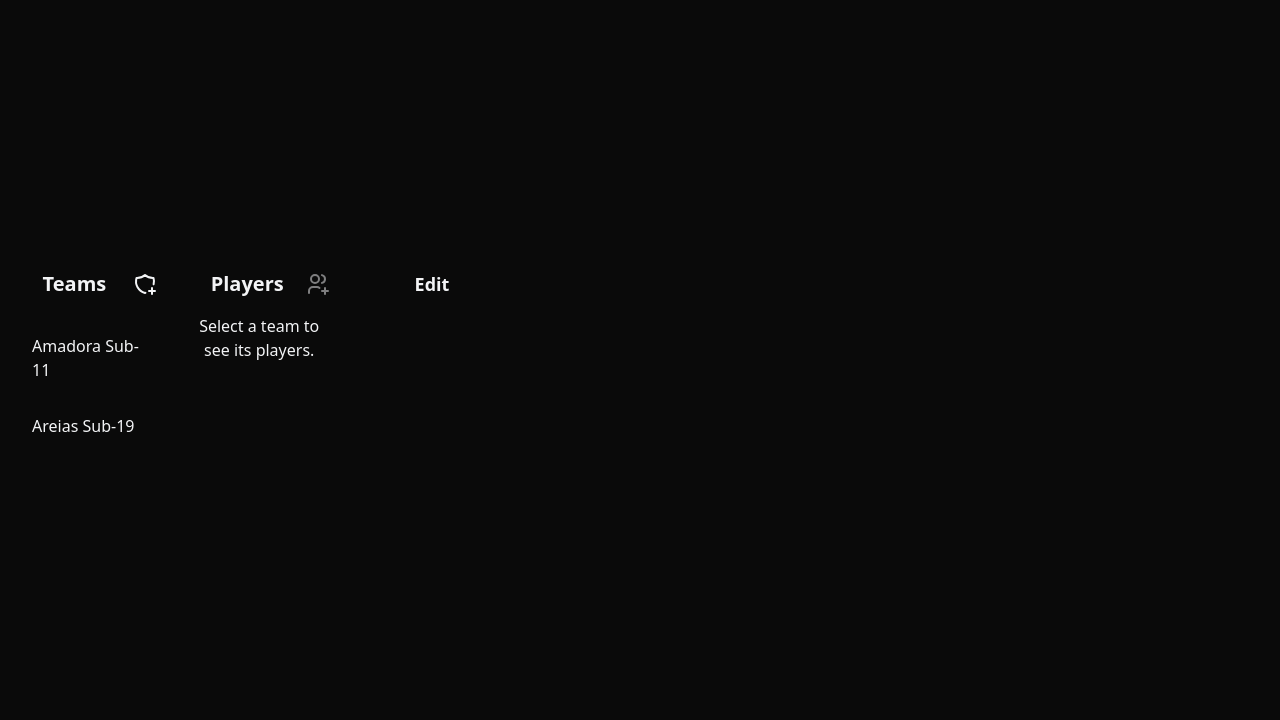
editing the selected team's details updates the list and the edit panel without losing the selection
The image size is (1280, 720).
Click the button "Amadora Sub-11" at (86, 358), box x1=16 y1=322 x2=157 y2=394
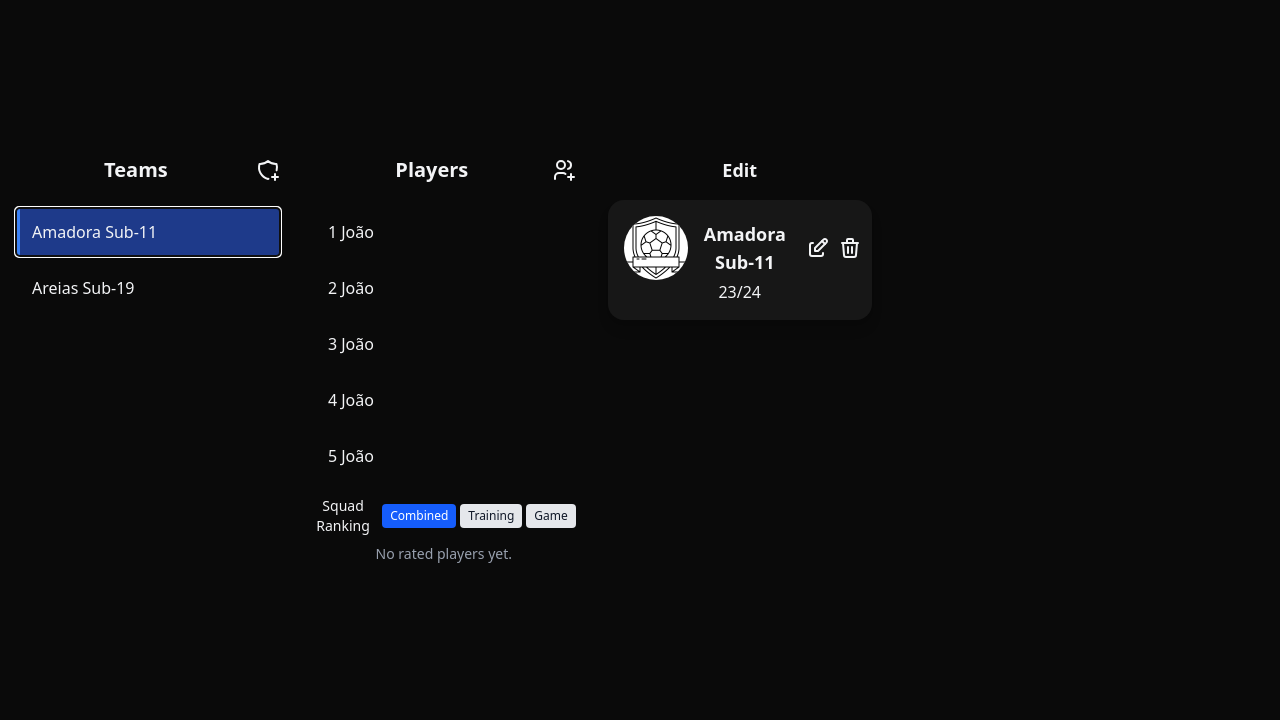
Click the icon with class "tabler-icon-edit" at (818, 248), box x1=806 y1=236 x2=830 y2=260
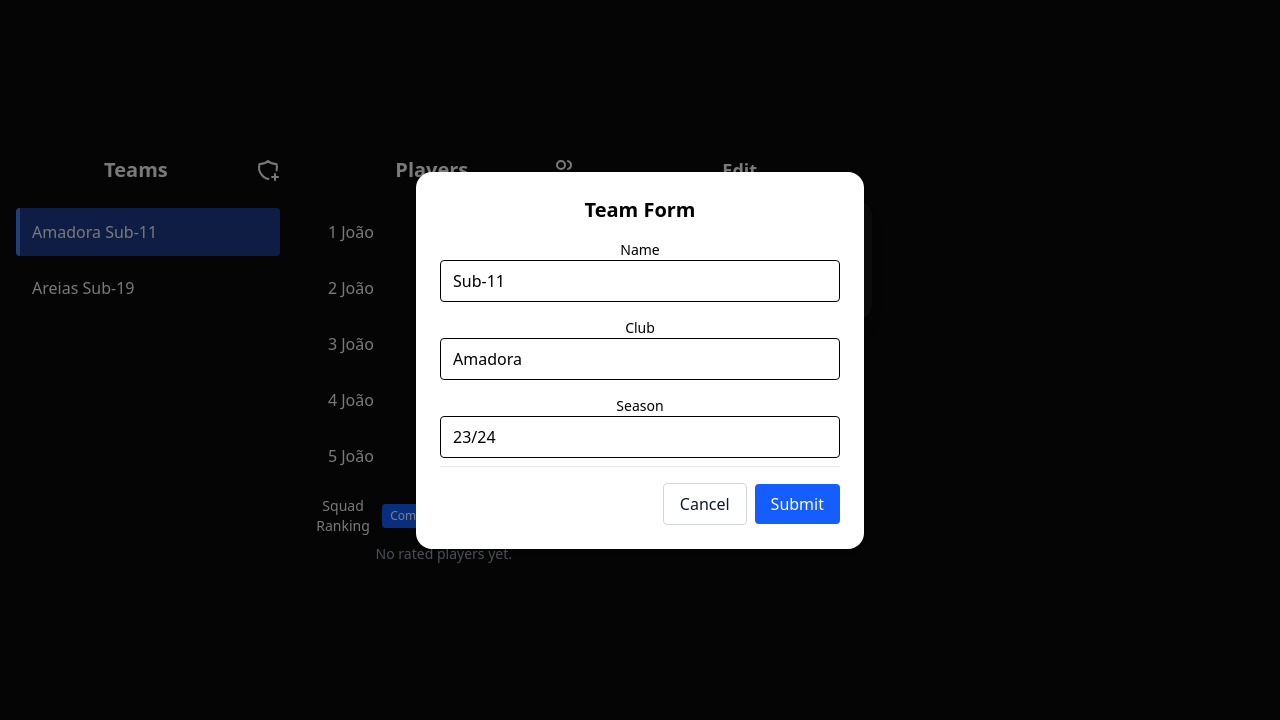
Replace the text in the field labelled "Name" with "Sub-11B" at (640, 280), box x1=440 y1=260 x2=840 y2=302
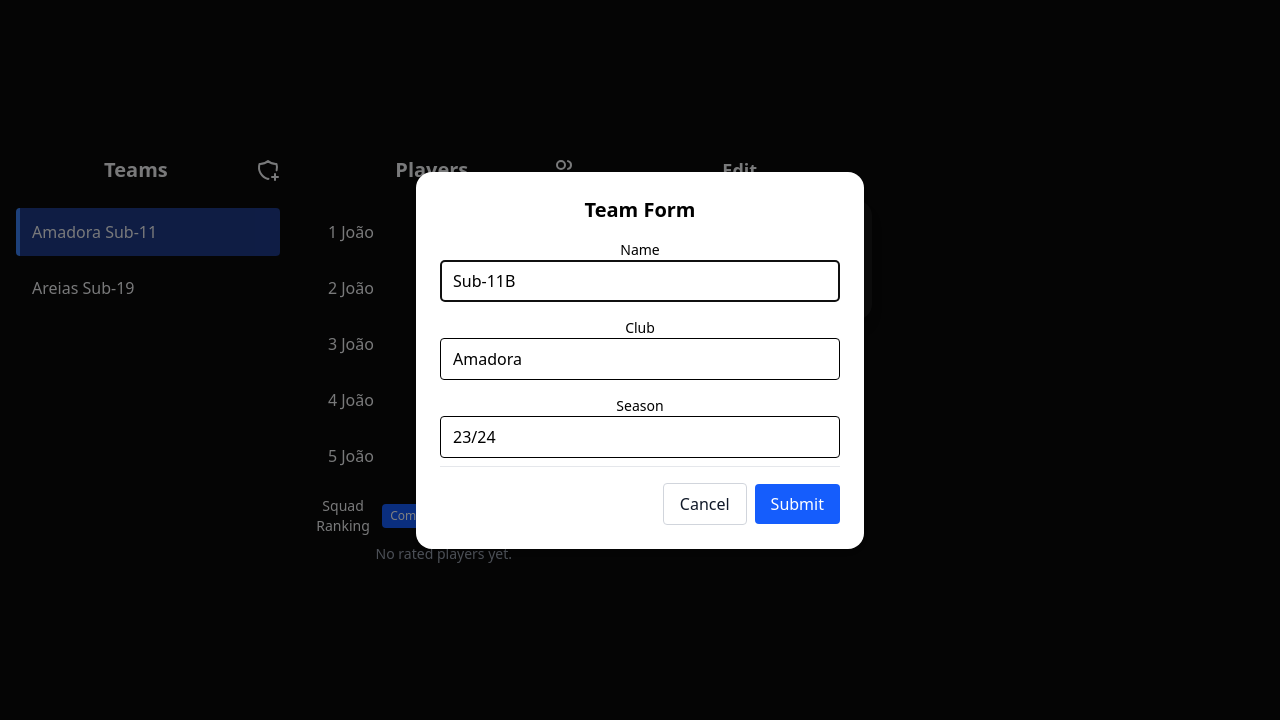
Click the button "Submit" at (797, 504), box x1=755 y1=484 x2=840 y2=524
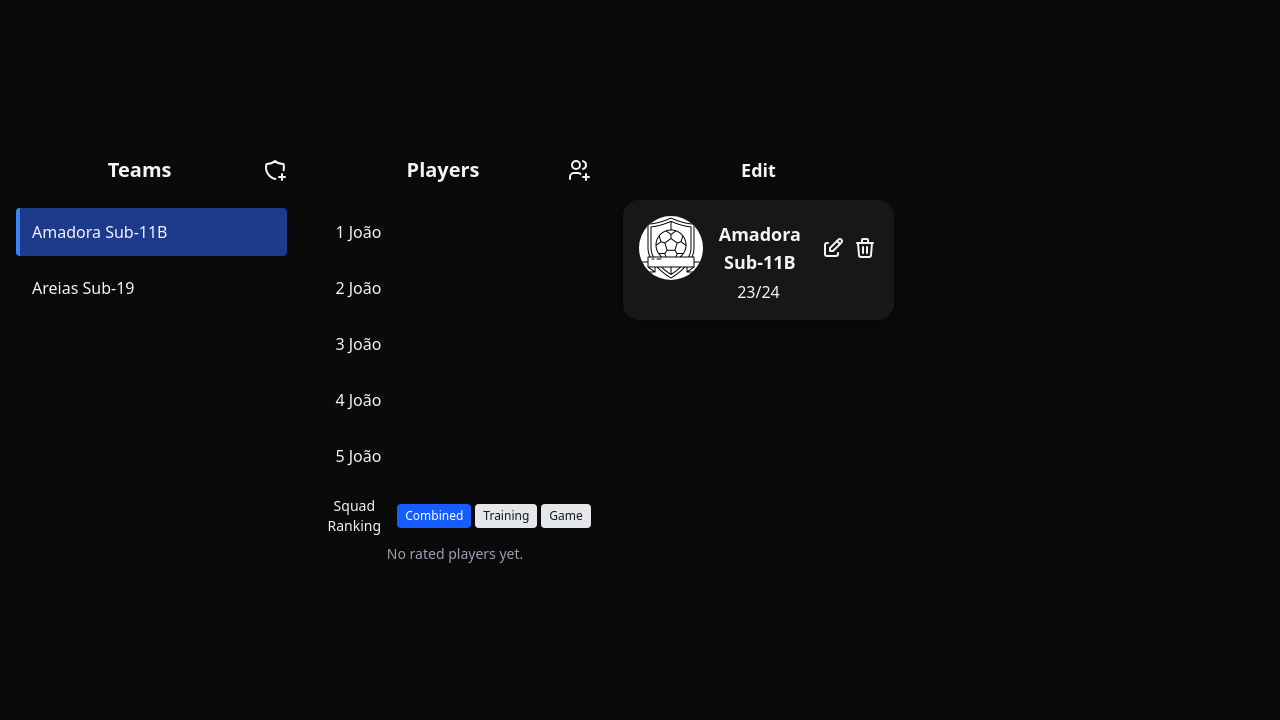
Result: the button "Amadora Sub-11B" is shown at x1=16 y1=208 x2=287 y2=256
Result: the heading "Amadora Sub-11B" is shown at x1=719 y1=220 x2=801 y2=276
